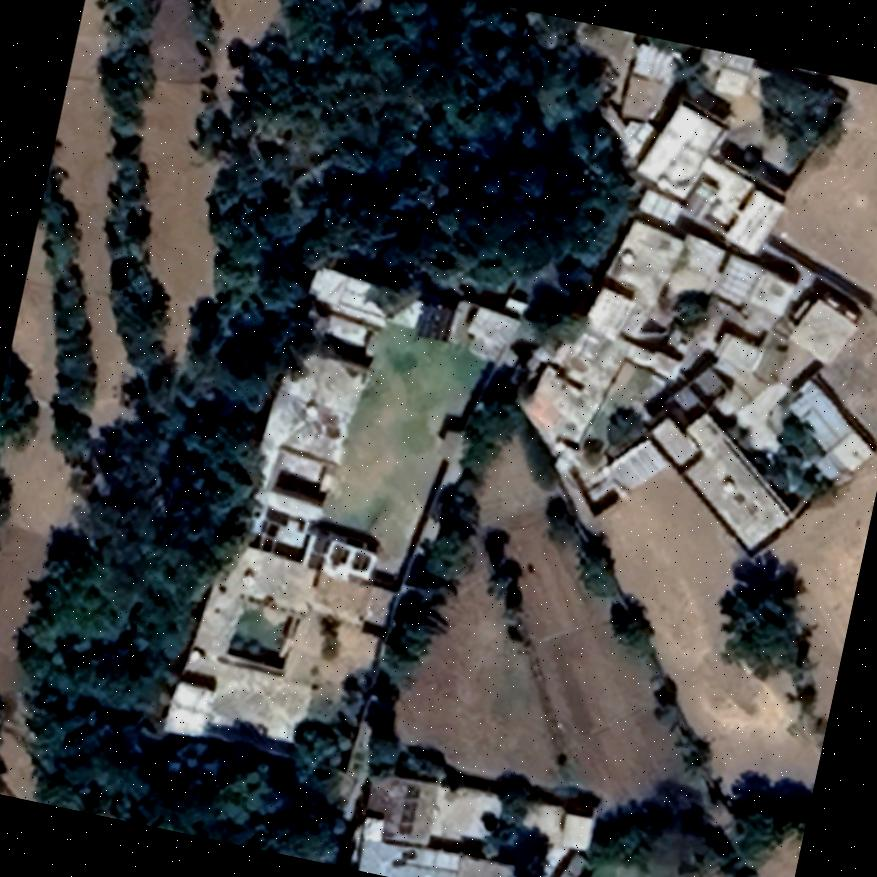Solarpanel: (407, 291, 460, 348), (392, 782, 422, 838), (300, 528, 332, 574), (346, 546, 372, 576)
